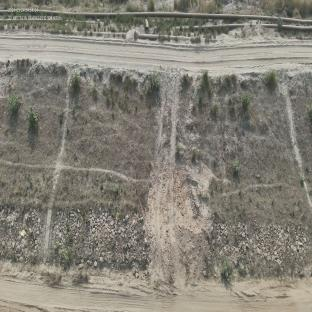rock_toe: (50, 213, 148, 273), (215, 223, 312, 271), (2, 208, 42, 260)
slope_drain: (41, 64, 71, 262), (278, 75, 312, 215)
